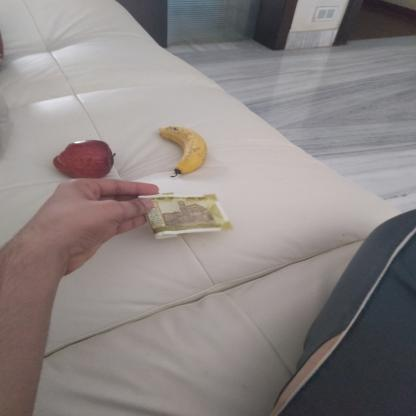New20Back: (140, 192, 226, 232)
